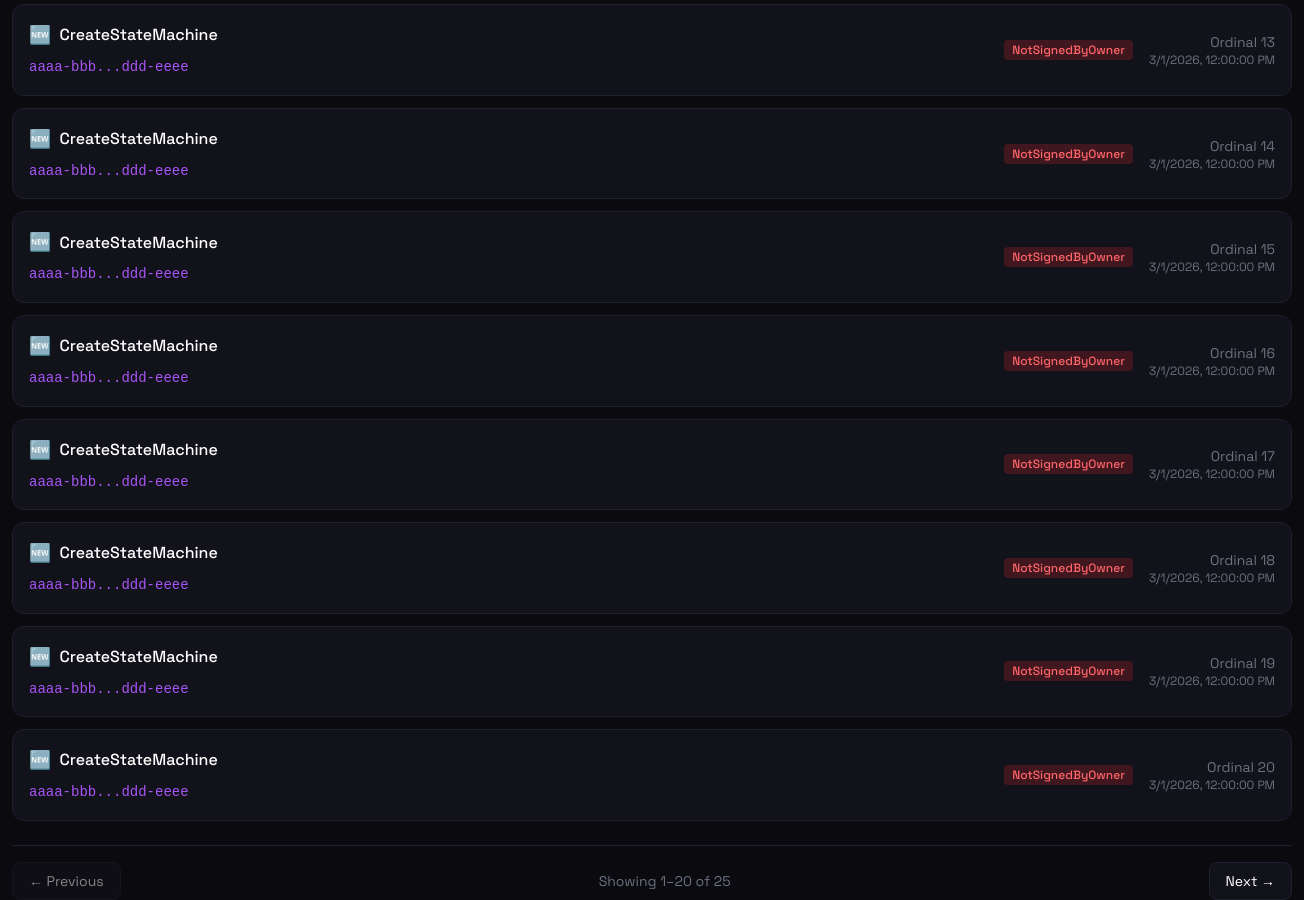
it: RejectionsView — Pagination › "Previous" button is disabled at offset 0 and enabled after navigating forward
(page scrolled)
Check: the text "Showing 1–20 of 25" is shown, box [599,871,730,891]
Check: the button "← Previous" is disabled, box [12,862,121,899]
Note: Navigate forward
Click the button "Next →" at (1250, 881), box [1208,862,1292,899]
(page scrolled)
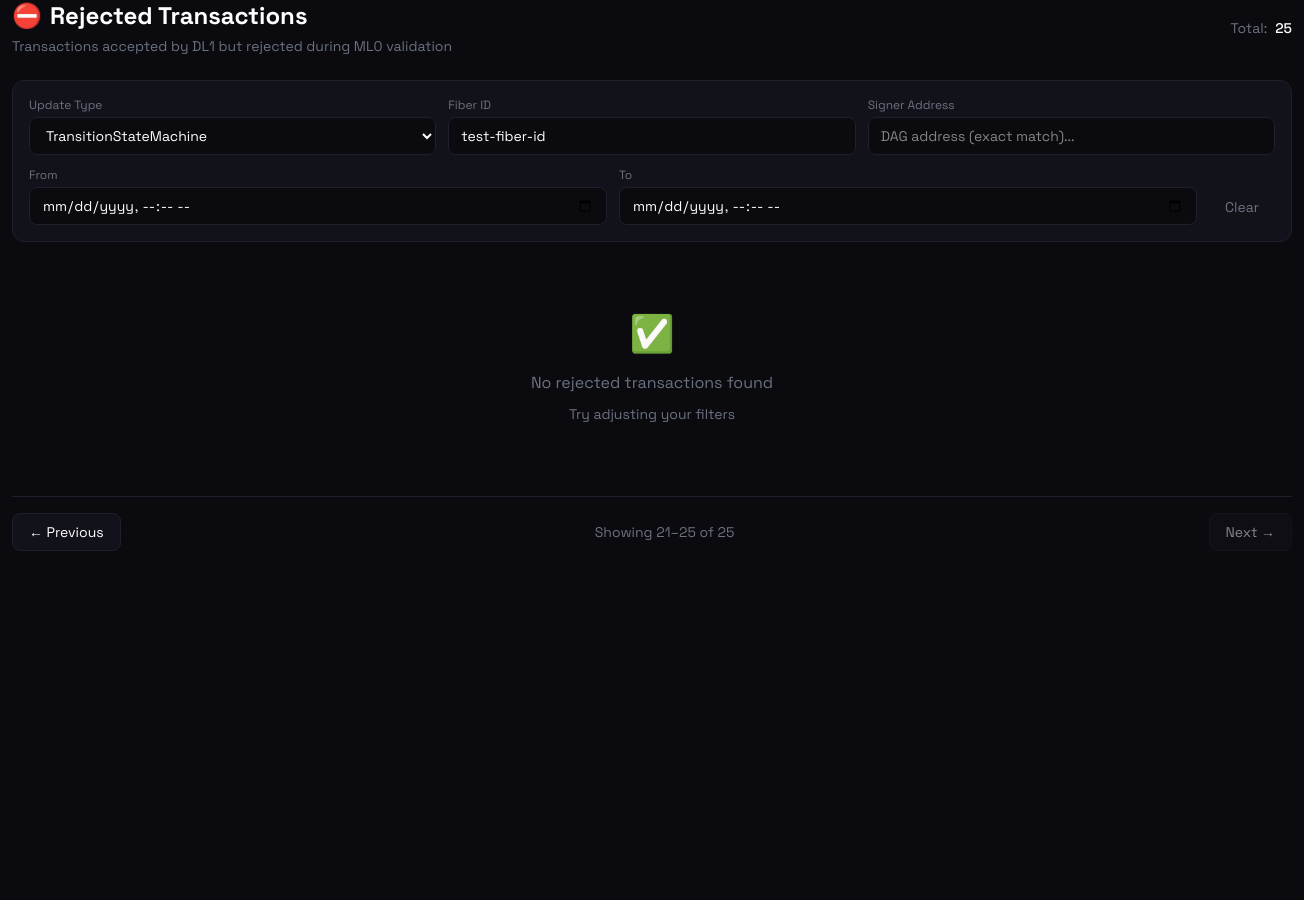
Check: the button "← Previous" is enabled, box [12,513,121,551]
